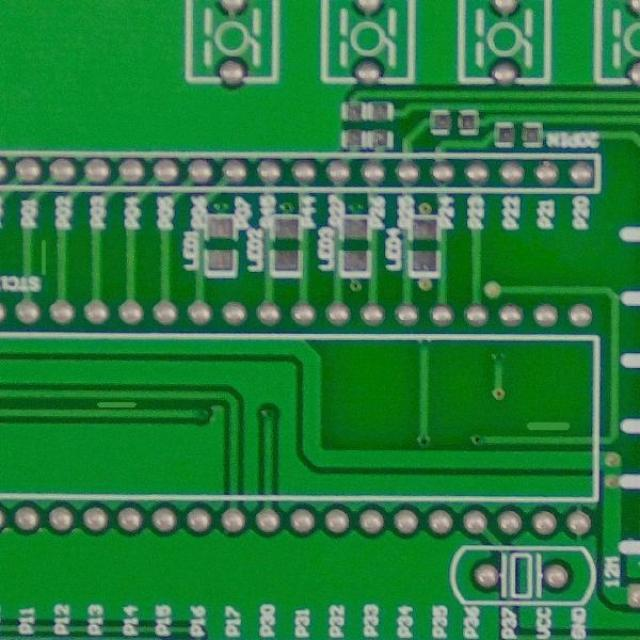Spurious_Cooper: (520, 416, 576, 434), (36, 234, 51, 278), (92, 398, 141, 411)
